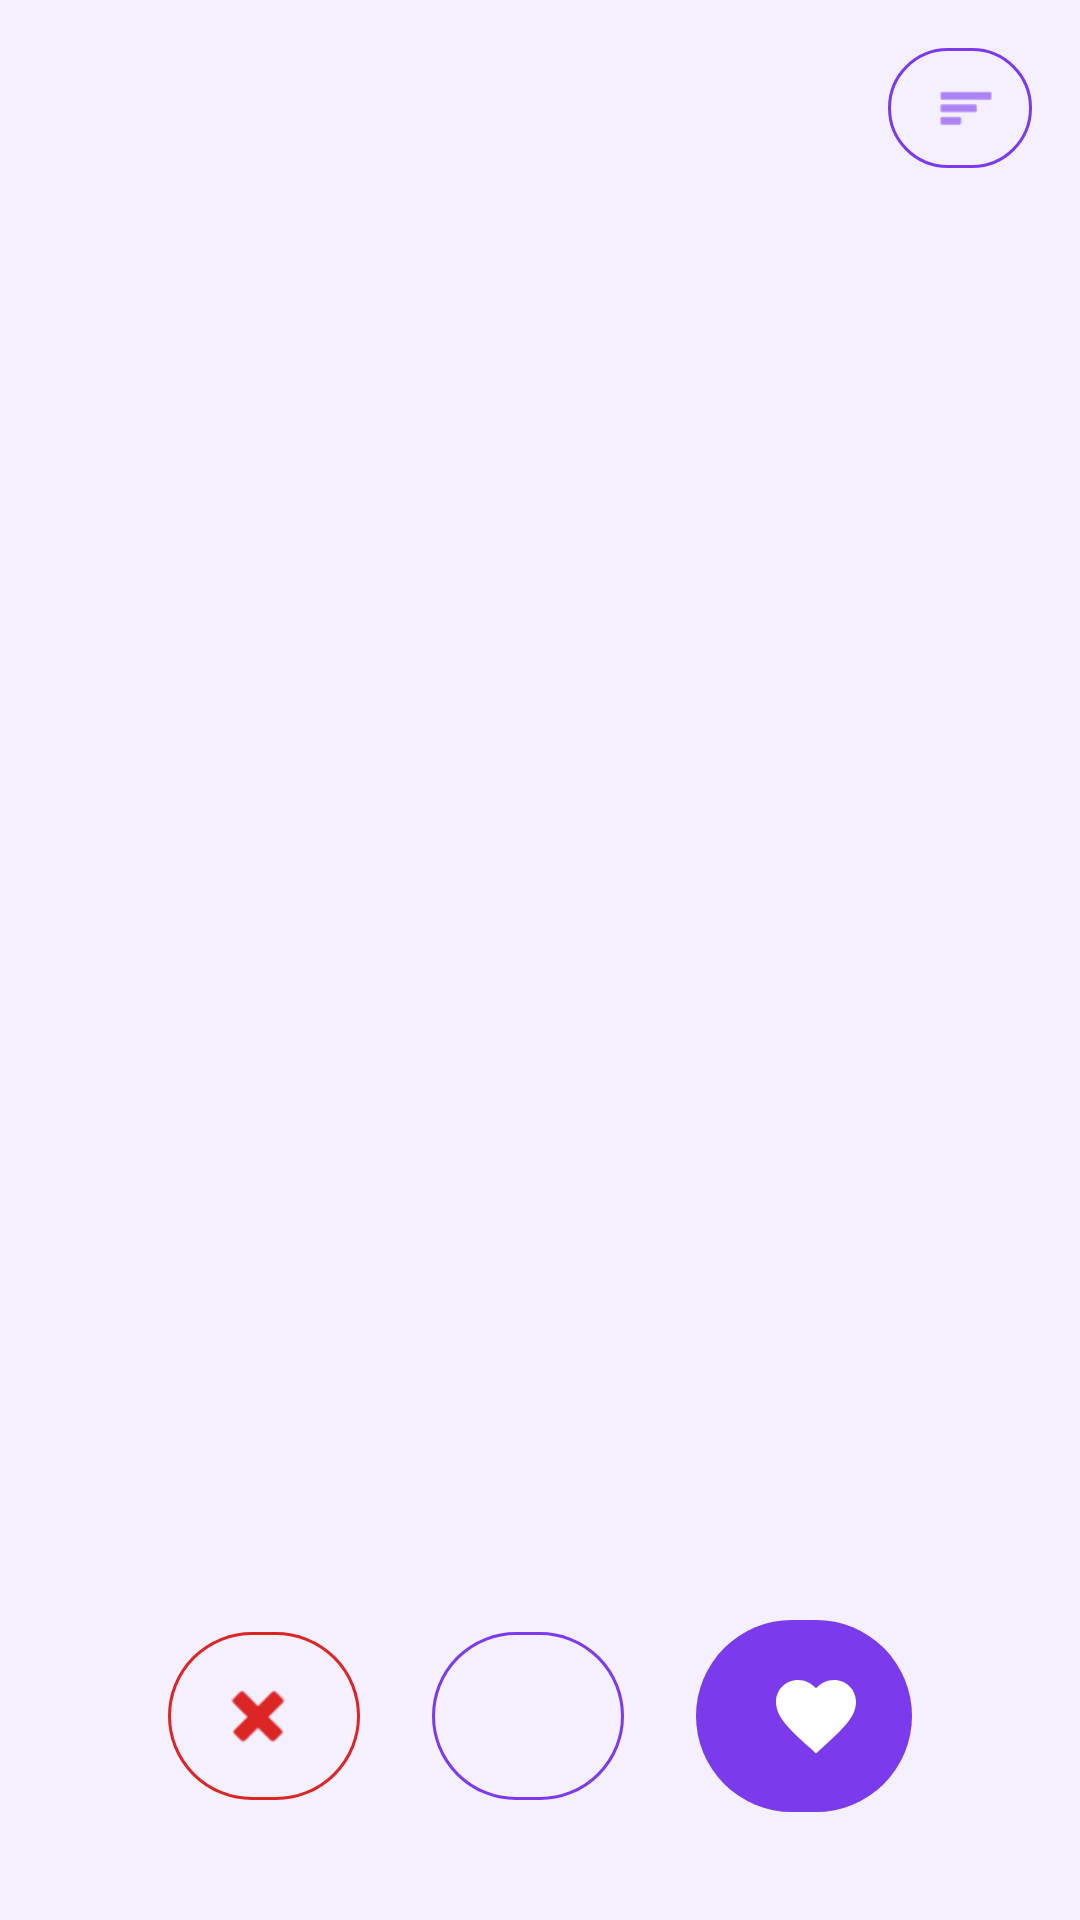

Icons on this 1080 × 1920 Android screen, each with its box as (x1, y1, x2, y2):
delete: (168, 1632, 360, 1800)
heart: (696, 1620, 912, 1812)
sort by size: (888, 48, 1032, 168)
